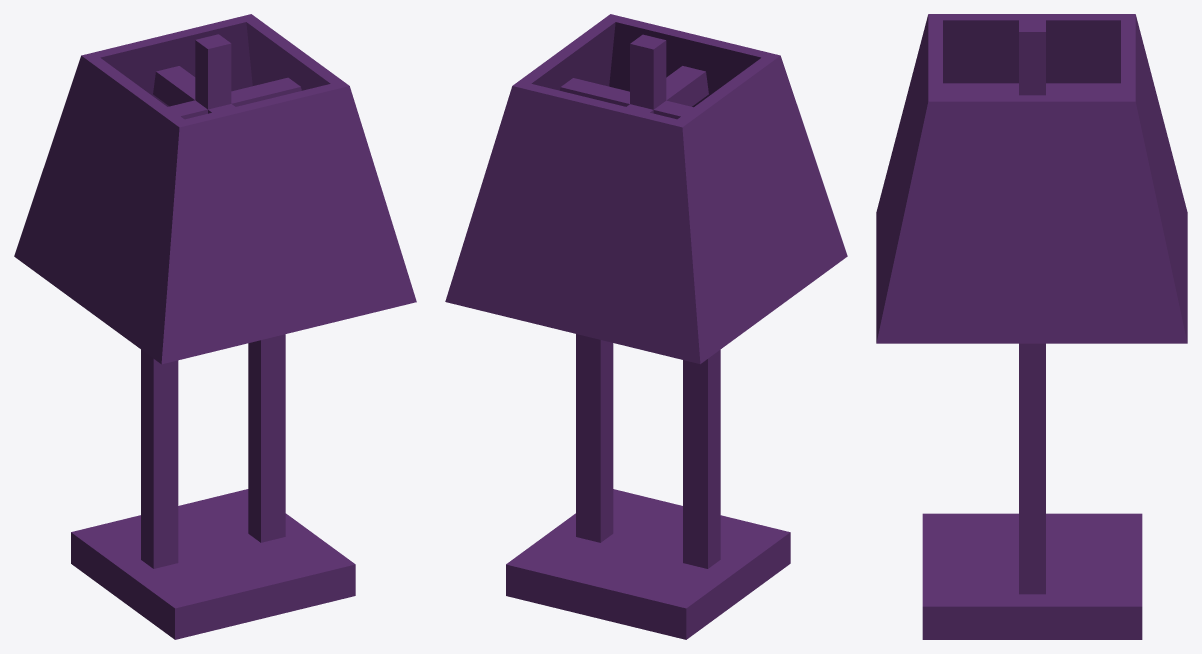
Rendered from Lamp_2.FBX.
The picture shows the model from 3 angles, left to right: view 1: azimuth 30°, elevation 25°; view 2: azimuth 150°, elevation 25°; view 3: azimuth 270°, elevation 25°; orthographic projection. The views are drawn at different scales.
Visible parts, largest first — view 1: Lamp_2; view 2: Lamp_2; view 3: Lamp_2.
Boxes of the visible parts, x1,y1,x2,y2 form: Lamp_2: (14, 14, 416, 639); Lamp_2: (445, 14, 847, 639); Lamp_2: (876, 14, 1187, 639).
Bounding box in the file's own units: 0.5056 × 1.02 × 0.5056.
